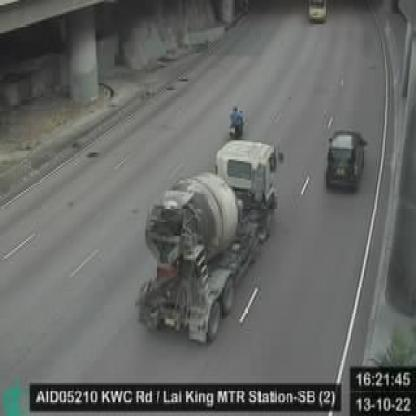Car: (324, 130, 367, 194)
Truck: (135, 136, 283, 343)
